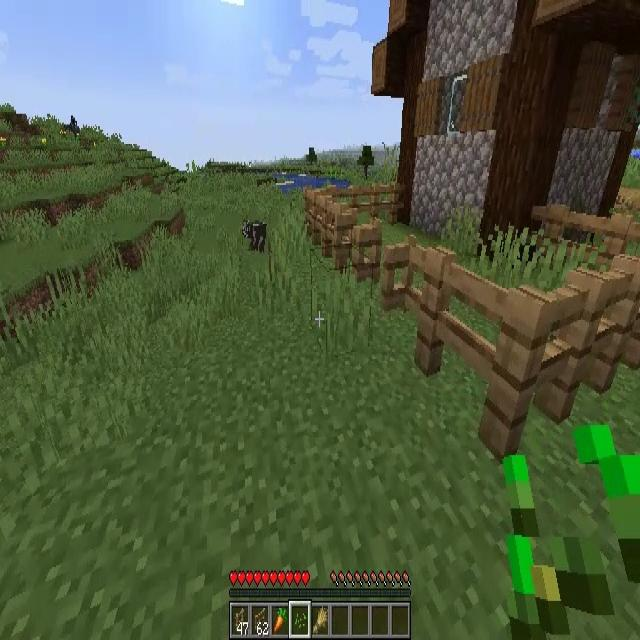cow: (242, 219, 268, 255)
